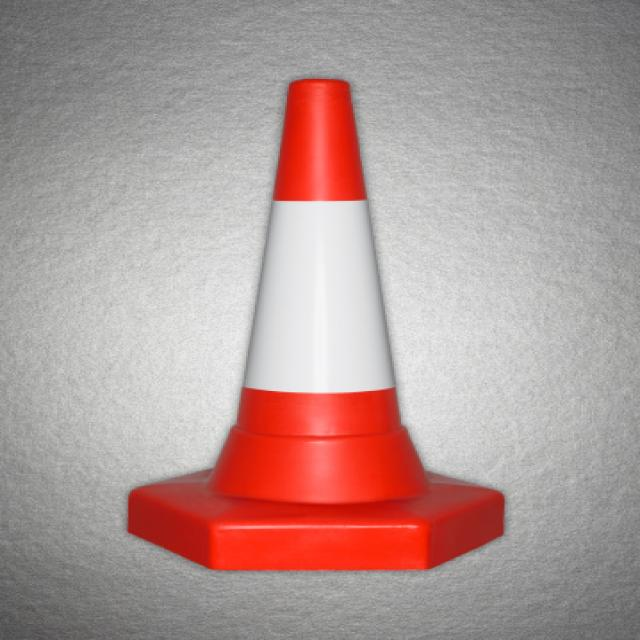cone: (123, 79, 506, 573)
